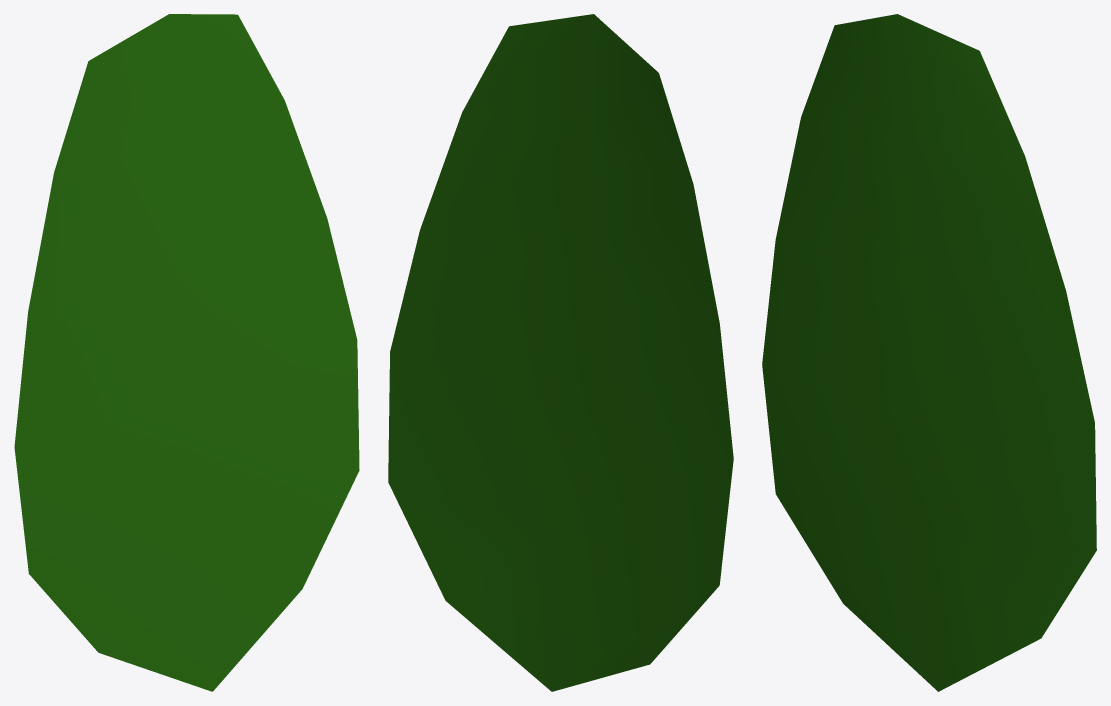
Rendered from lovebird_feather_flight_tertiary_013.001.obj.
3 renders of one model, left to right at view 1: azimuth 30°, elevation 25°; view 2: azimuth 150°, elevation 25°; view 3: azimuth 330°, elevation 25°, orthographic. The views are drawn at different scales.
Visible parts, largest first — view 1: feather_flight_tertiary_013.001; view 2: feather_flight_tertiary_013.001; view 3: feather_flight_tertiary_013.001.
Part boxes in pixels (bbox=[...]): feather_flight_tertiary_013.001: bbox=[14, 14, 359, 691]; feather_flight_tertiary_013.001: bbox=[388, 14, 733, 691]; feather_flight_tertiary_013.001: bbox=[762, 14, 1096, 691].
Size of the model in its own units: 0.00397 by 0.00756 by 0.000174.
